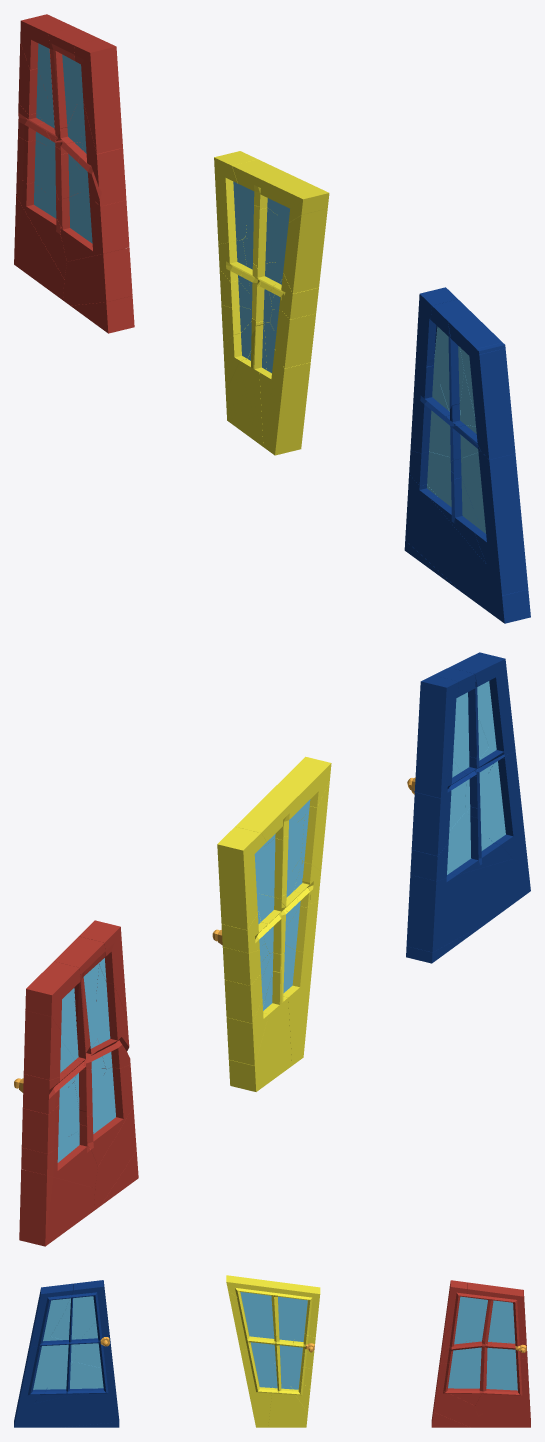
File: Portes_fracture.fbx
3 views of the same model, one above another, from view 1: azimuth 30°, elevation 25°; view 2: azimuth 150°, elevation 25°; view 3: azimuth 270°, elevation 25° (orthographic). The views are drawn at different scales.
Parts seen in each view (by area): view 1: Porte.Gauche_cell.011, Porte.Gauche_cell.008, Porte.Gauche_cell.006, Porte.Milieu_cell.010, Porte.Droite_cell.003, Porte.Droite_cell.008, Porte.Milieu_cell.011, Porte.Gauche_cell, Porte.Droite_cell.011, Porte.Milieu_cell.009, Porte.Milieu_cell.012, Porte.Droite__cell.007 (+22 smaller); view 2: Porte.Gauche_cell.008, Porte.Gauche_cell.009, Porte.Droite_cell.010, Porte.Milieu_cell.001, Porte.Milieu_cell.011, Porte.Gauche_cell.011, Porte.Milieu_cell.009, Porte.Droite_cell, Porte.Gauche_cell, Porte.Gauche_cell.006, Porte.Gauche_cell.002, Porte.Droite_cell.008 (+20 smaller); view 3: Porte.Gauche_cell.008, Porte.Gauche_cell.011, Porte.Gauche_cell, Porte.Gauche_cell.006, Porte.Droite_cell.008, Porte.Milieu_cell.009, Porte.Milieu_cell.011, Porte.Gauche_cell.001, Porte.Droite_cell.010, Porte.Milieu_cell.010, Porte.Droite_cell, Porte.Gauche_cell.002 (+28 smaller).
Boxes of the visible parts, x1,y1,x2,y2 form: Porte.Gauche_cell.011: [450, 451, 528, 595]; Porte.Gauche_cell.008: [405, 474, 530, 623]; Porte.Gauche_cell.006: [448, 315, 515, 459]; Porte.Milieu_cell.010: [259, 322, 310, 455]; Porte.Droite_cell.003: [74, 39, 122, 153]; Porte.Droite_cell.008: [56, 188, 129, 261]; Porte.Milieu_cell.011: [232, 159, 329, 222]; Porte.Gauche_cell: [409, 450, 485, 563]; Porte.Droite_cell.011: [63, 247, 132, 305]; Porte.Milieu_cell.009: [225, 323, 266, 446]; Porte.Milieu_cell.012: [283, 208, 327, 293]; Porte.Droite__cell.007: [48, 27, 99, 137]; Porte.Gauche_cell.008: [406, 859, 530, 952]; Porte.Gauche_cell.009: [411, 675, 458, 798]; Porte.Droite_cell.010: [19, 1169, 94, 1246]; Porte.Milieu_cell.001: [217, 827, 266, 930]; Porte.Milieu_cell.011: [235, 756, 331, 846]; Porte.Gauche_cell.011: [467, 751, 528, 866]; Porte.Milieu_cell.009: [229, 957, 291, 1091]; Porte.Droite_cell: [25, 961, 85, 1065]; Porte.Gauche_cell: [410, 812, 512, 880]; Porte.Gauche_cell.006: [449, 653, 515, 754]; Porte.Gauche_cell.002: [407, 751, 470, 855]; Porte.Droite_cell.008: [77, 1064, 133, 1166]; Porte.Gauche_cell.008: [14, 1380, 118, 1427]; Porte.Gauche_cell.011: [16, 1341, 73, 1413]; Porte.Gauche_cell: [33, 1362, 114, 1403]; Porte.Gauche_cell.006: [30, 1283, 73, 1347]; Porte.Droite_cell.008: [437, 1358, 488, 1405]; Porte.Milieu_cell.009: [268, 1363, 307, 1427]; Porte.Milieu_cell.011: [226, 1275, 301, 1304]; Porte.Gauche_cell.001: [65, 1281, 96, 1343]; Porte.Droite_cell.010: [478, 1388, 530, 1427]; Porte.Milieu_cell.010: [246, 1361, 274, 1427]; Porte.Droite_cell: [487, 1286, 524, 1347]; Porte.Gauche_cell.002: [75, 1321, 113, 1372].
Bounding box in the file's own units: 57.23 × 389 × 1251.
